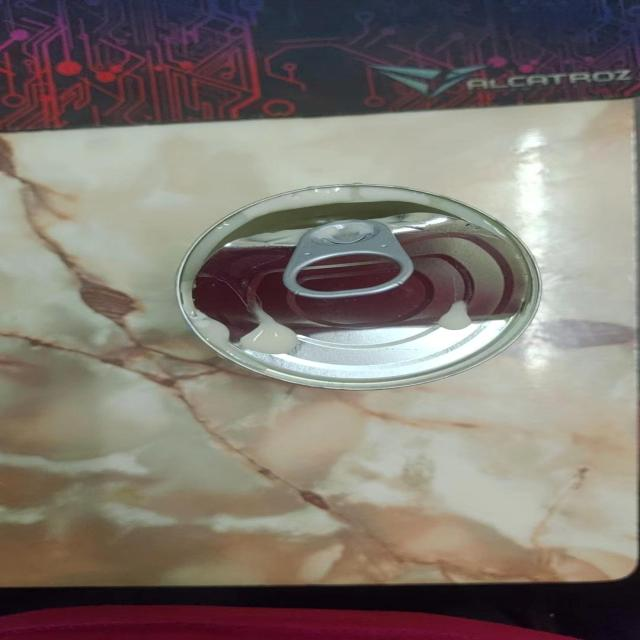can: (173, 181, 545, 391)
pop tab: (283, 221, 419, 299)
